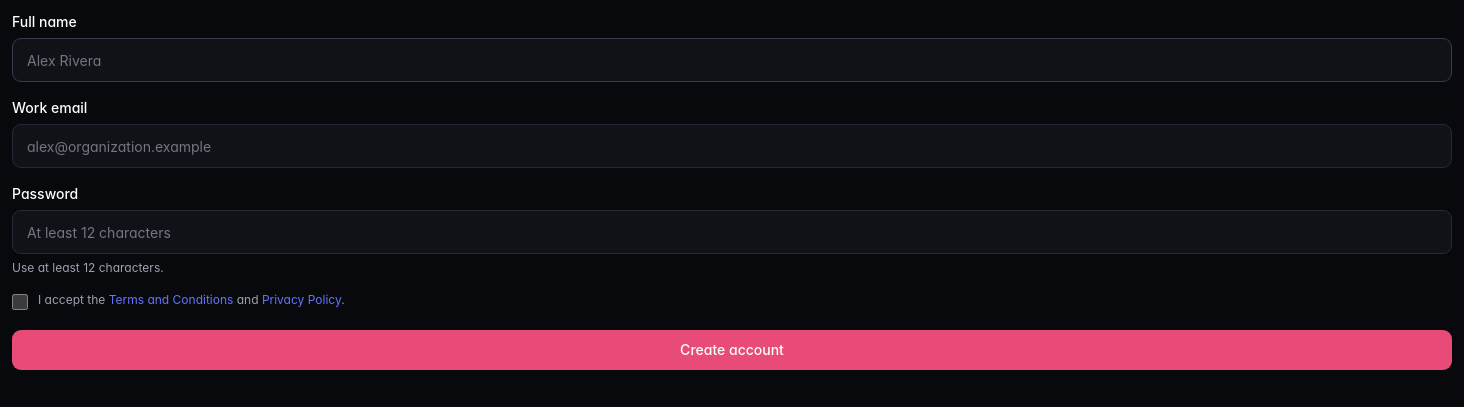
Test: Auth Forms › validates RegisterForm password length and terms acceptance
This screenshot has width=1464, height=407.
Type "Alex" into the field labelled "Full name". click: (732, 60)
box: [12,38,1452,82]
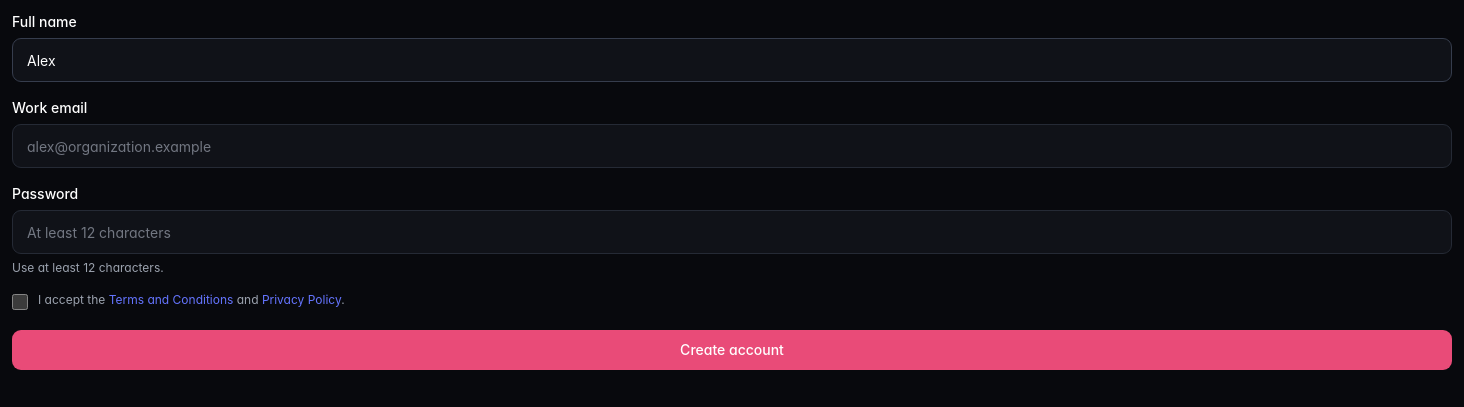
Type "alex@example.com" into the field labelled "Work email". click: (732, 146)
box: [12,124,1452,168]
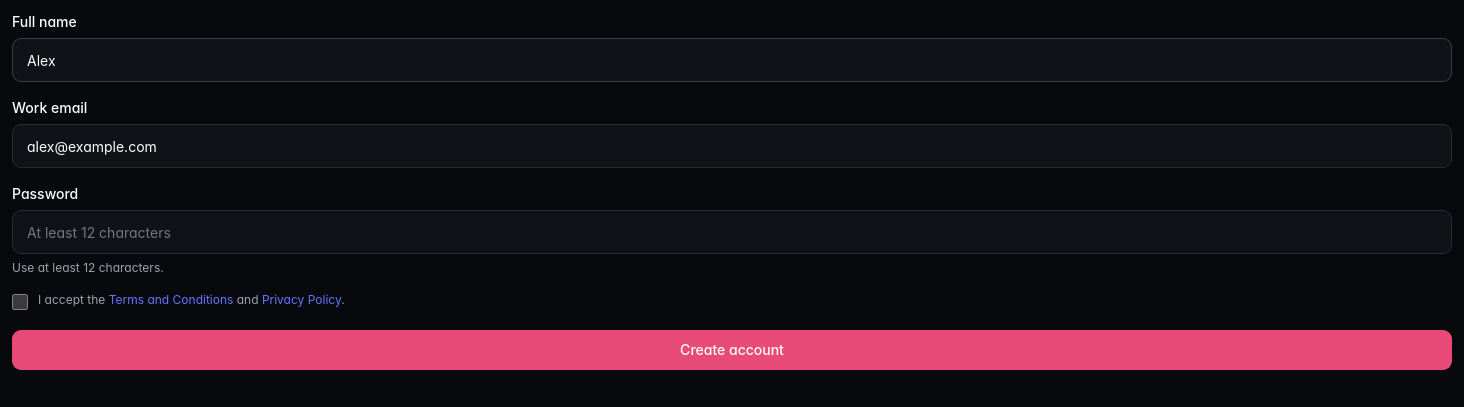
Type "short" into the password field labelled "Password". click: (732, 232)
box: [12,210,1452,254]
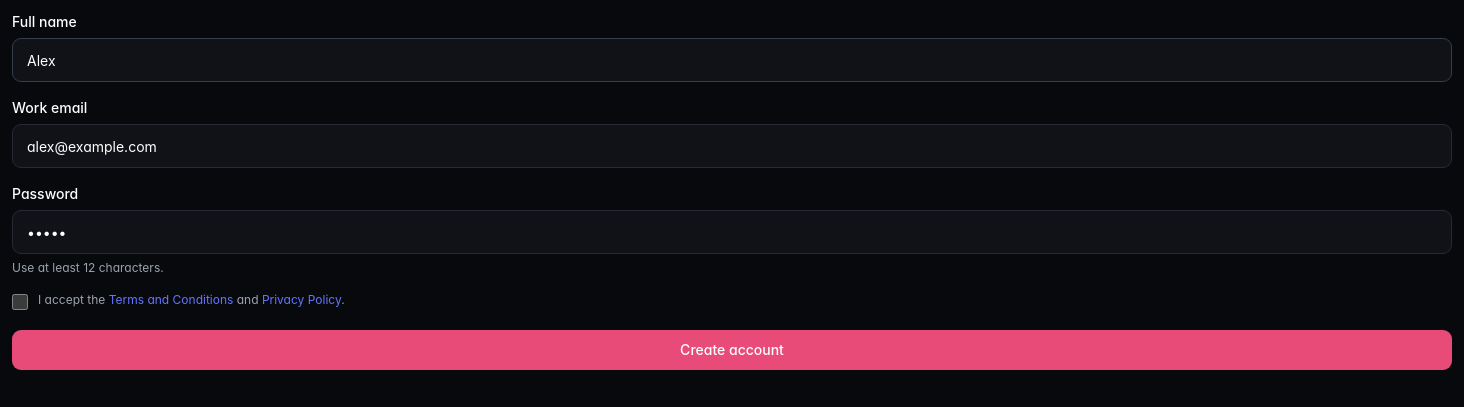
Click the button "Create account". click: (732, 350)
box: [12,330,1452,370]
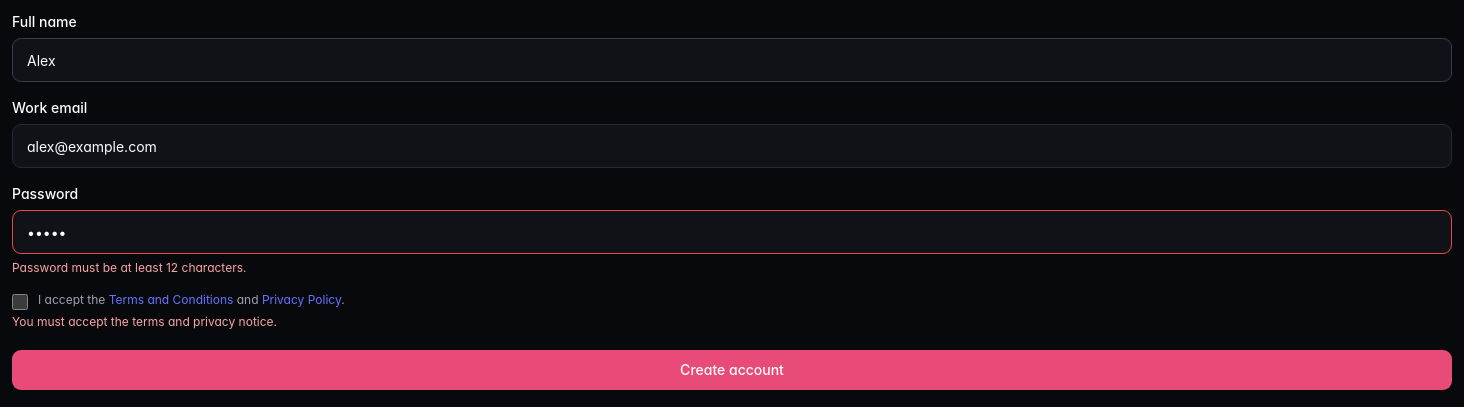
Expected: the text "Password must be at least 12 characters." is shown, [12,260,246,275]
Expected: the text "You must accept the terms and privacy notice." is shown, [12,314,277,329]
